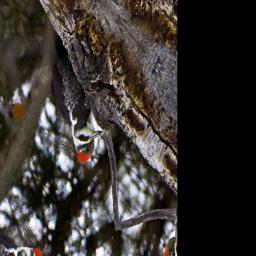Woodpecker: (23, 30, 116, 173)
